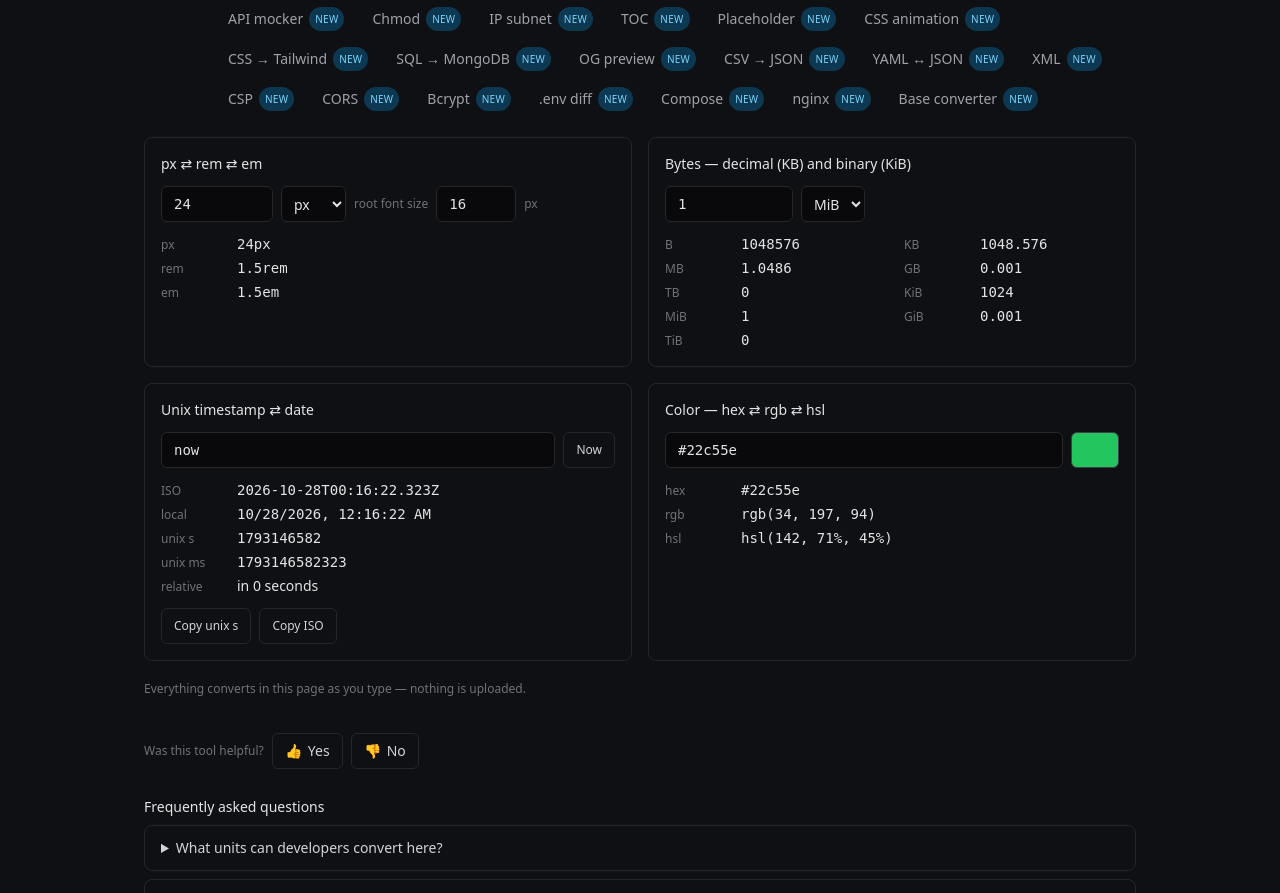
UnitPage › reads a unix timestamp
(page scrolled)
Replace the text in the field with test id "time-in" with "1700000000" at {"x": 358, "y": 450}, box [161,432,555,468]
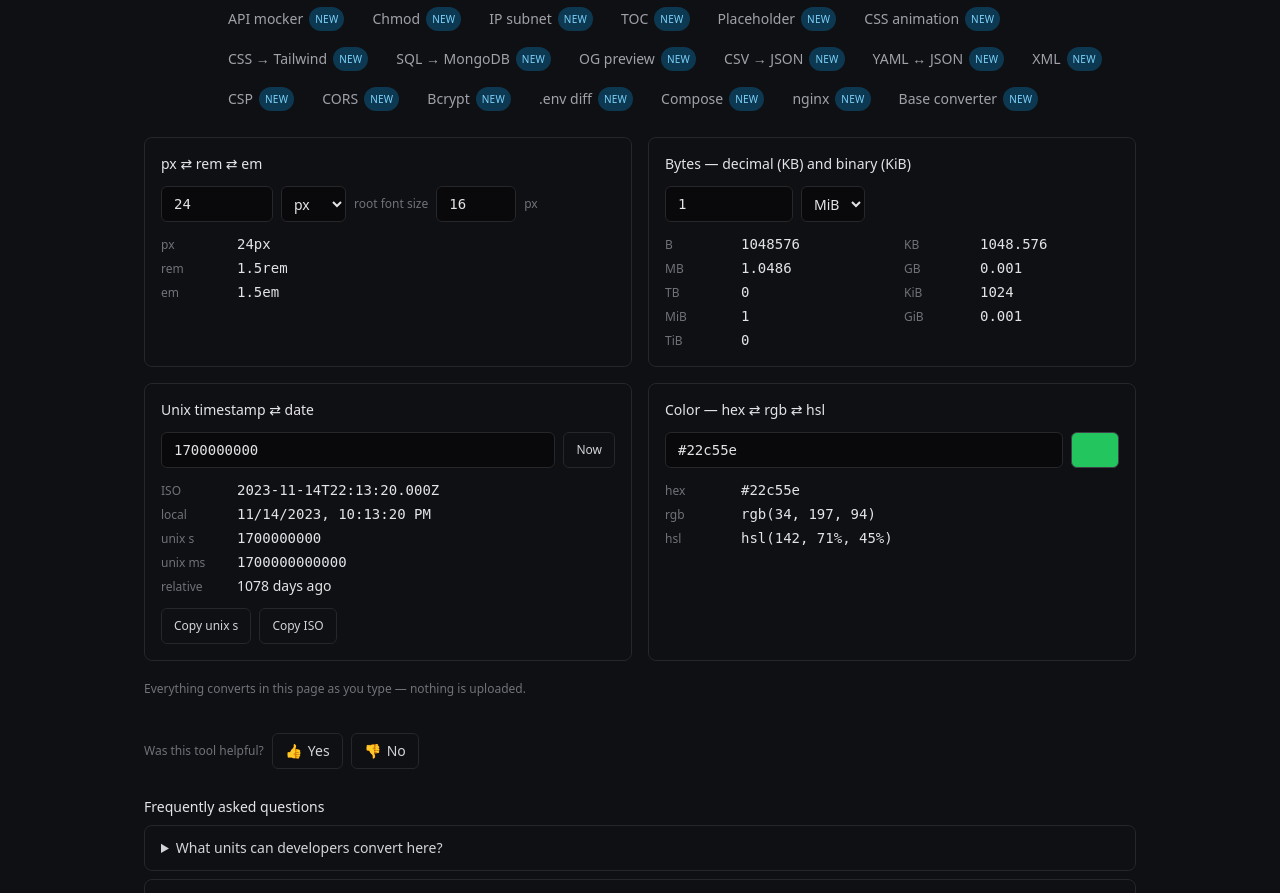
Check: the element with test id "time-out" shows "2023-11-14T22:13:20.000Z", box [237,482,439,498]
